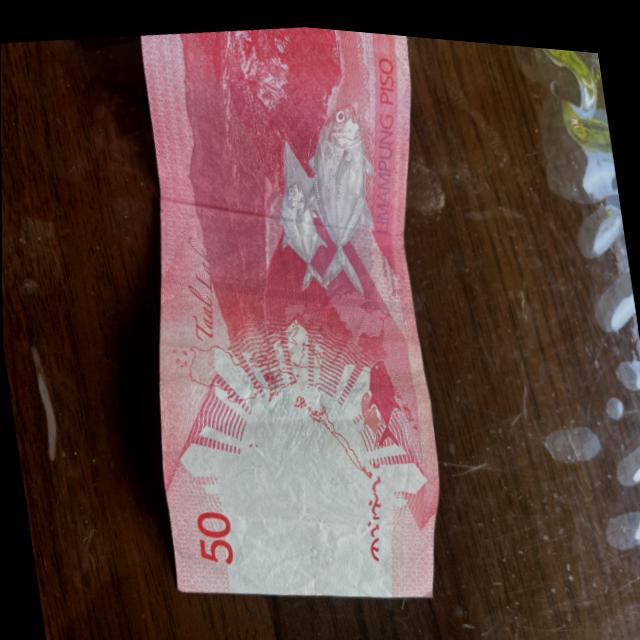50_maliputo: (251, 83, 392, 309)
50_maliputo_watermark: (347, 345, 416, 460)
value_watermark: (294, 530, 346, 575)
watermark: (226, 423, 370, 607)
